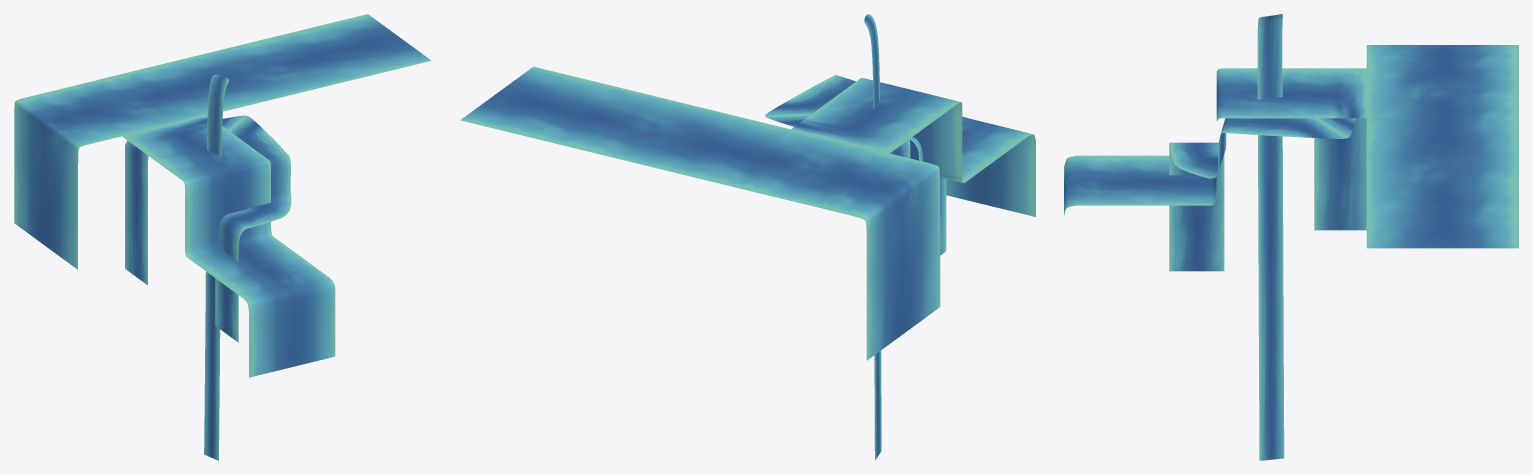
The model's file is split_waterfall_corrected.gltf.
3 views of the same model, side by side, from view 1: azimuth 30°, elevation 25°; view 2: azimuth 150°, elevation 25°; view 3: azimuth 270°, elevation 25° (orthographic). The views are drawn at different scales.
Parts seen in each view (by area): view 1: water_river_split_fixed_2, water_river_2_fixed, water_waterfall_background_fixed; view 2: water_river_split_fixed_2, water_river_2_fixed, water_waterfall_background_fixed; view 3: water_river_split_fixed_2, water_river_2_fixed, water_waterfall_background_fixed.
Part boxes in pixels (x1,y1,x2,y2): water_river_split_fixed_2: (14,14,431,377); water_river_2_fixed: (125,115,291,342); water_waterfall_background_fixed: (204,74,228,460); water_river_split_fixed_2: (460,66,1035,360); water_river_2_fixed: (765,75,946,255); water_waterfall_background_fixed: (864,14,881,460); water_river_split_fixed_2: (1064,45,1518,248); water_river_2_fixed: (1169,118,1366,271); water_waterfall_background_fixed: (1257,14,1284,460).
Size of the model in its own units: 79.93 by 81.72 by 74.74.
2 materials, 2 textured.
